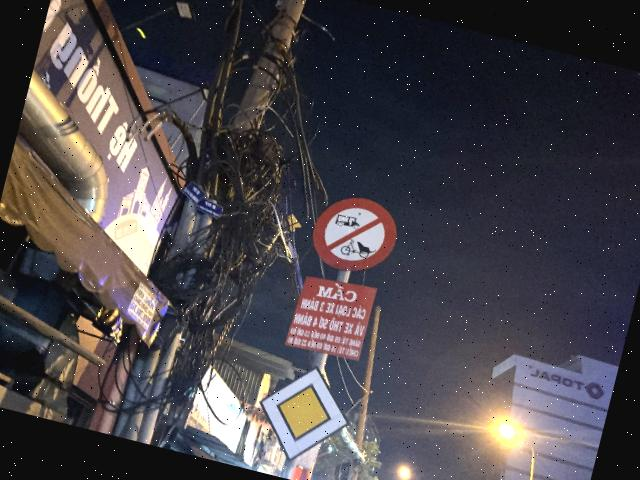bat-dau-duong-uu-tien: (246, 355, 360, 472)
cam-xe-3-banh-xe-tho-so-4-banh: (304, 188, 404, 280)
